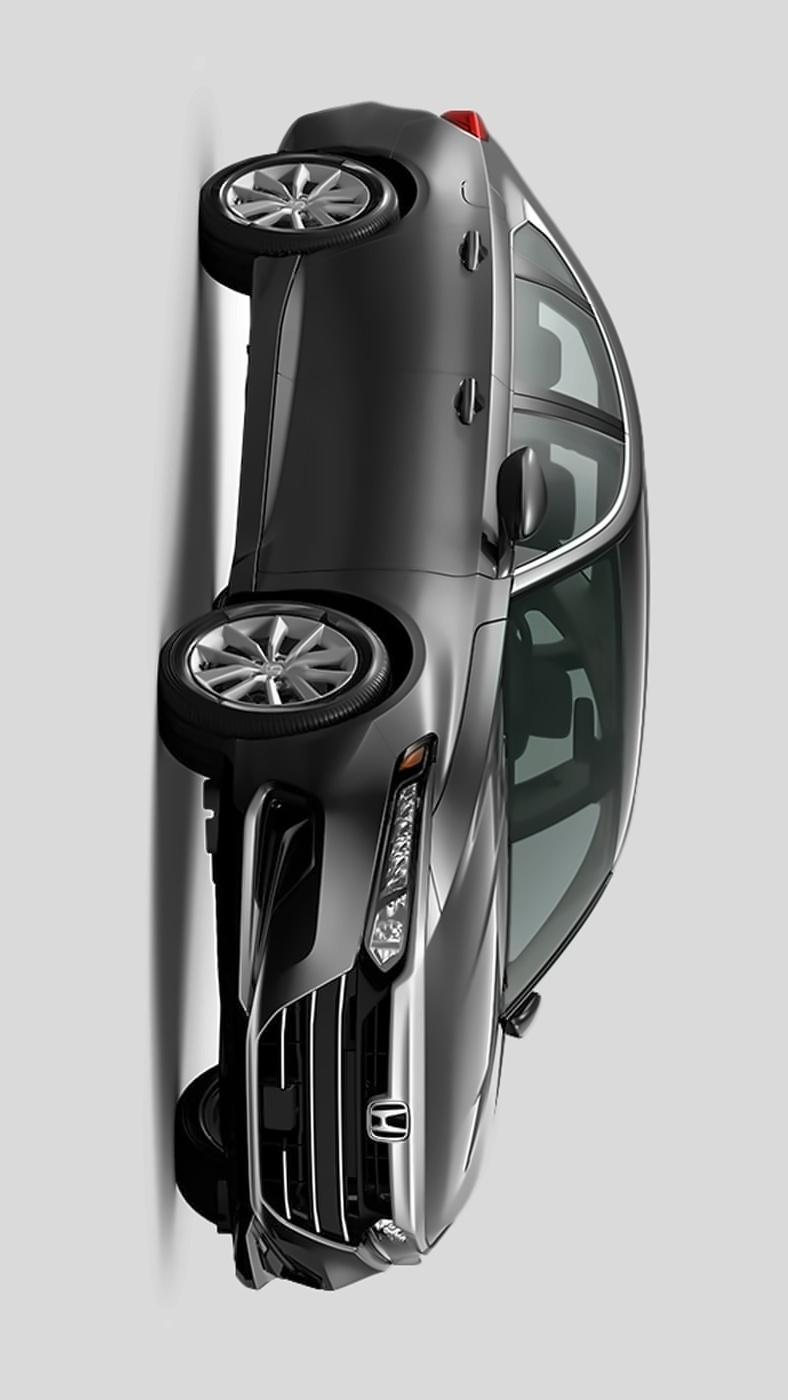Car hood: (408, 606, 519, 1271)
Driver-s door - -F-R-: (260, 378, 641, 580)
Fender - -F-R-: (225, 558, 521, 800)
Fender - -R-R-: (260, 135, 525, 261)
Front bumper: (205, 718, 380, 1307)
Headlight - -L-: (350, 1188, 439, 1286)
Headlight - -R-: (350, 718, 455, 989)
Passenger-s door - -R-L-: (268, 206, 648, 414)
Rear bumper: (263, 86, 400, 178)
Rear light - -R-: (225, 236, 305, 610), (435, 91, 512, 146)
Side mirror - -L-: (488, 968, 553, 1043)
Side mirror - -R-: (470, 428, 562, 576)
